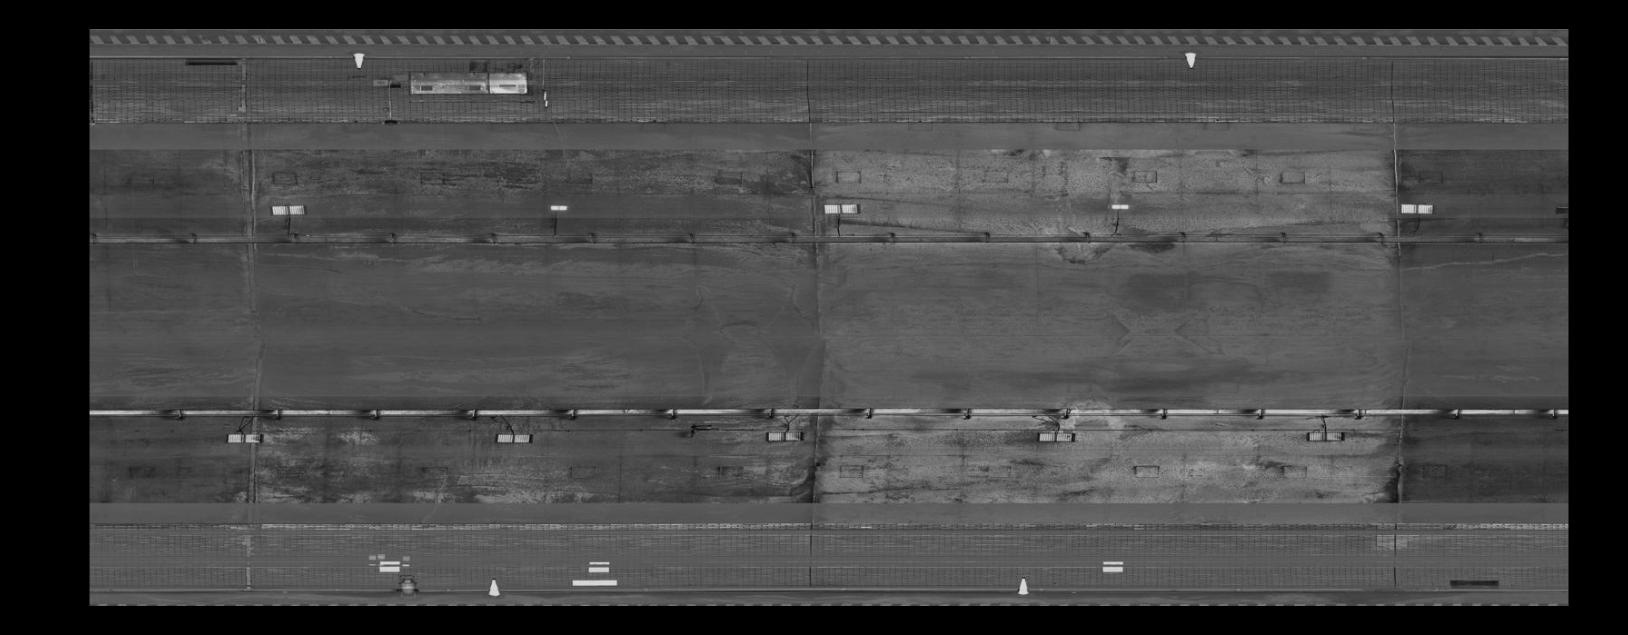light: (762, 427, 809, 445), (1303, 427, 1349, 445), (1035, 429, 1081, 446), (491, 430, 537, 447), (223, 430, 266, 446), (267, 202, 311, 218), (1398, 199, 1439, 215), (820, 200, 861, 216), (1105, 202, 1134, 211), (543, 203, 572, 212)
